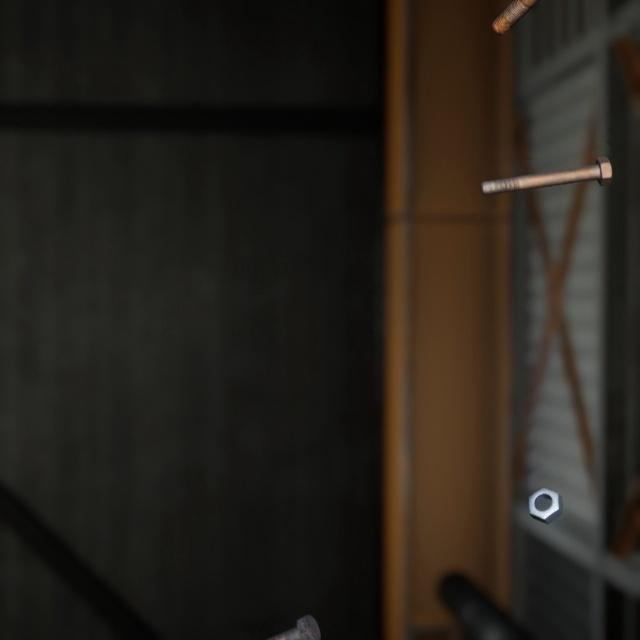bolt: (475, 138, 616, 185), (207, 584, 325, 640), (487, 0, 538, 33)
nut: (524, 460, 567, 506)
